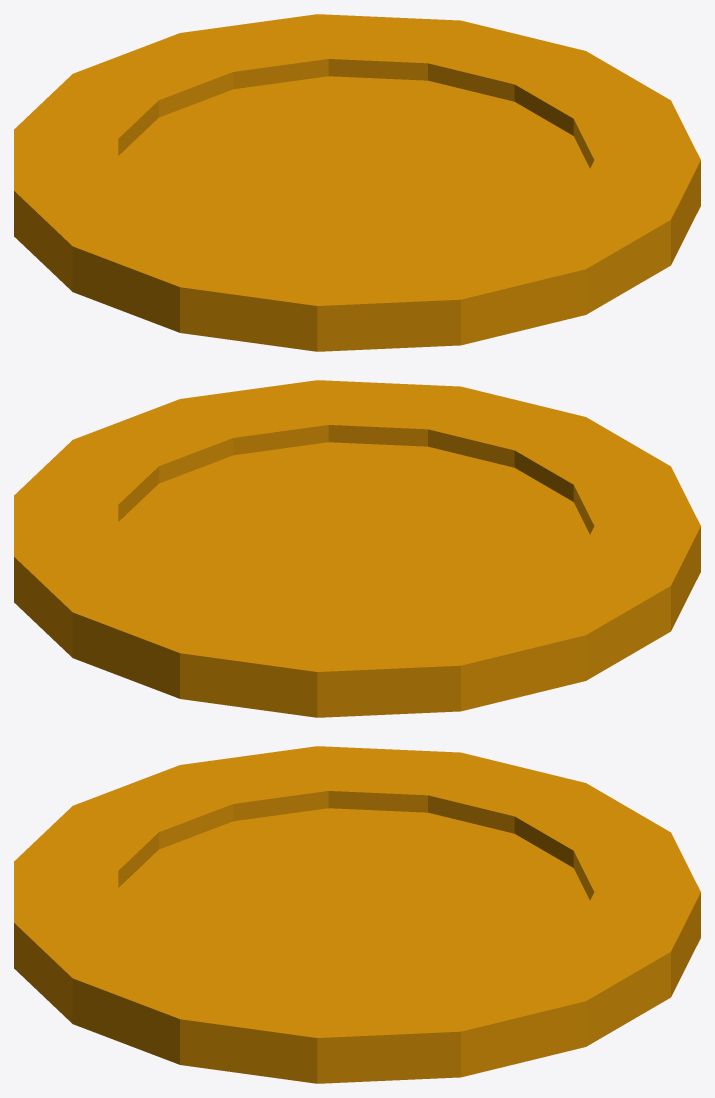
The model's file is Coin_Particle.fbx.
The picture shows the model from 3 angles, top to bottom: view 1: azimuth 30°, elevation 25°; view 2: azimuth 150°, elevation 25°; view 3: azimuth 270°, elevation 25°; orthographic projection.
Visible parts, largest first — view 1: GoldCoin; view 2: GoldCoin; view 3: GoldCoin.
Boxes of the visible parts, x1,y1,x2,y2 form: GoldCoin: [14, 14, 700, 351]; GoldCoin: [14, 380, 700, 717]; GoldCoin: [14, 746, 700, 1083].
Bounding box in the file's own units: 199 × 14.54 × 198.
